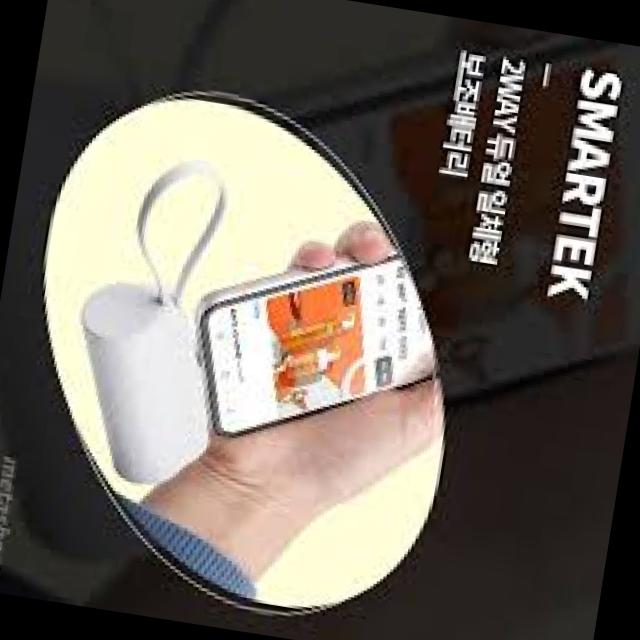portable-charger: (58, 282, 225, 497)
